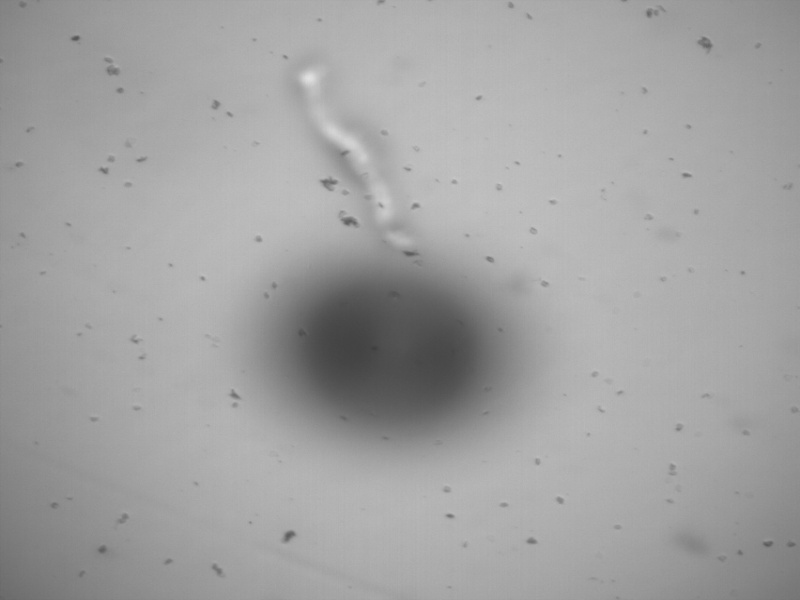bead: (296, 266, 484, 426)
fiber: (294, 57, 423, 258)
